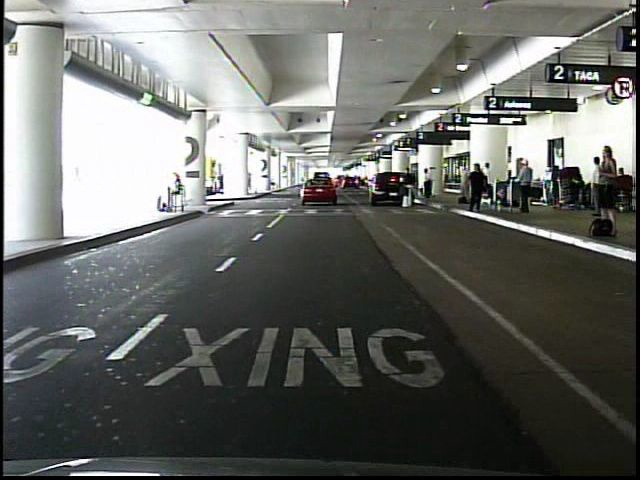person: (594, 146, 619, 220), (518, 160, 535, 215), (467, 161, 485, 212), (590, 157, 605, 217), (168, 172, 187, 218), (403, 169, 415, 213), (480, 162, 491, 203), (423, 168, 434, 202)
